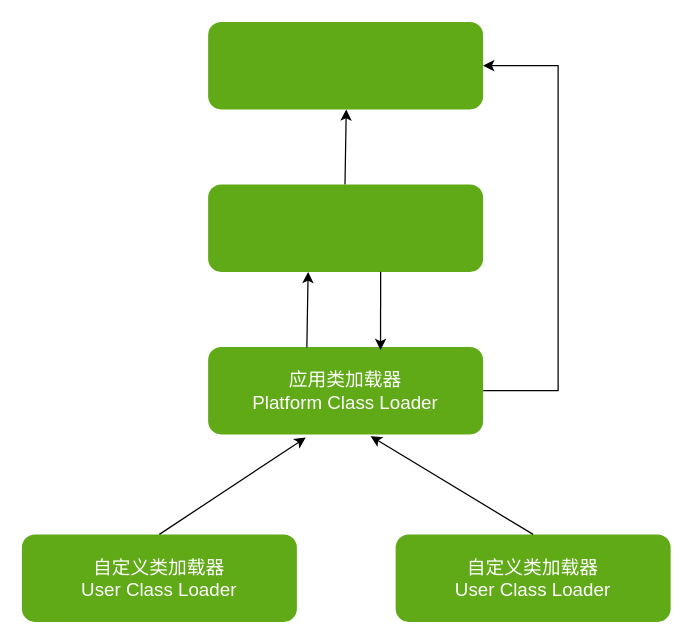
The diagram is 691 pixels wide and 643 high, and some of its shapes have lost their labels. Each missing label, with the box of its shape:
启动类加载器 Bootstrap Class Loader: (208, 21, 482, 109)
平台类加载器 Platform Class Loader: (208, 184, 482, 271)
